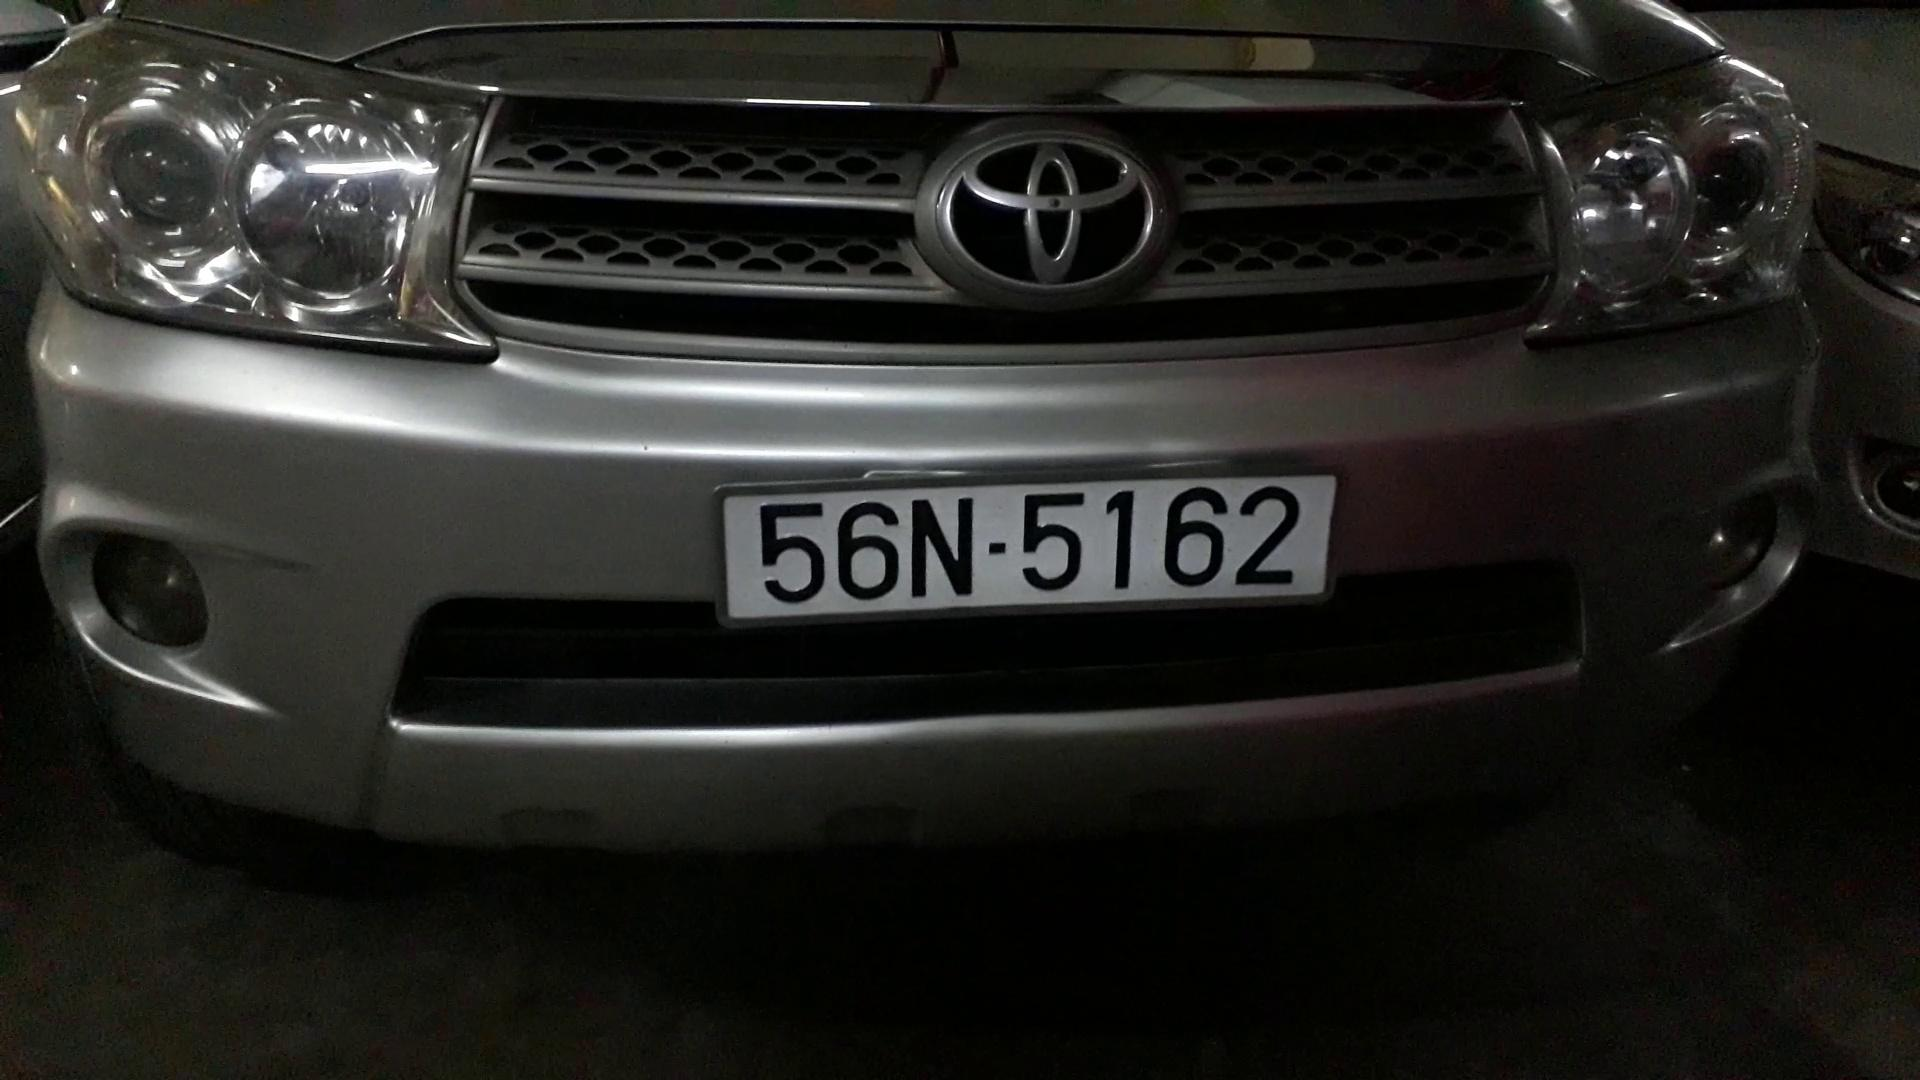numplate: (703, 477, 1347, 617)
